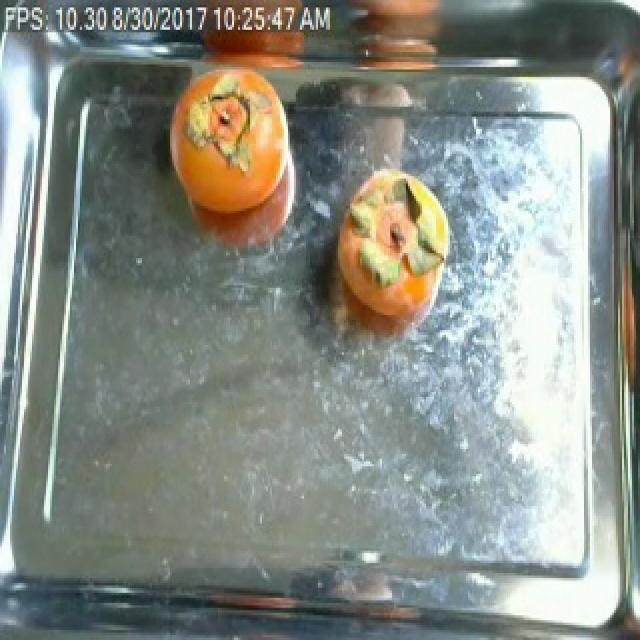Fruit: (330, 159, 460, 285)
